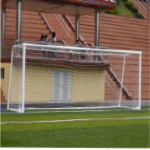goals: (6, 41, 144, 118)
